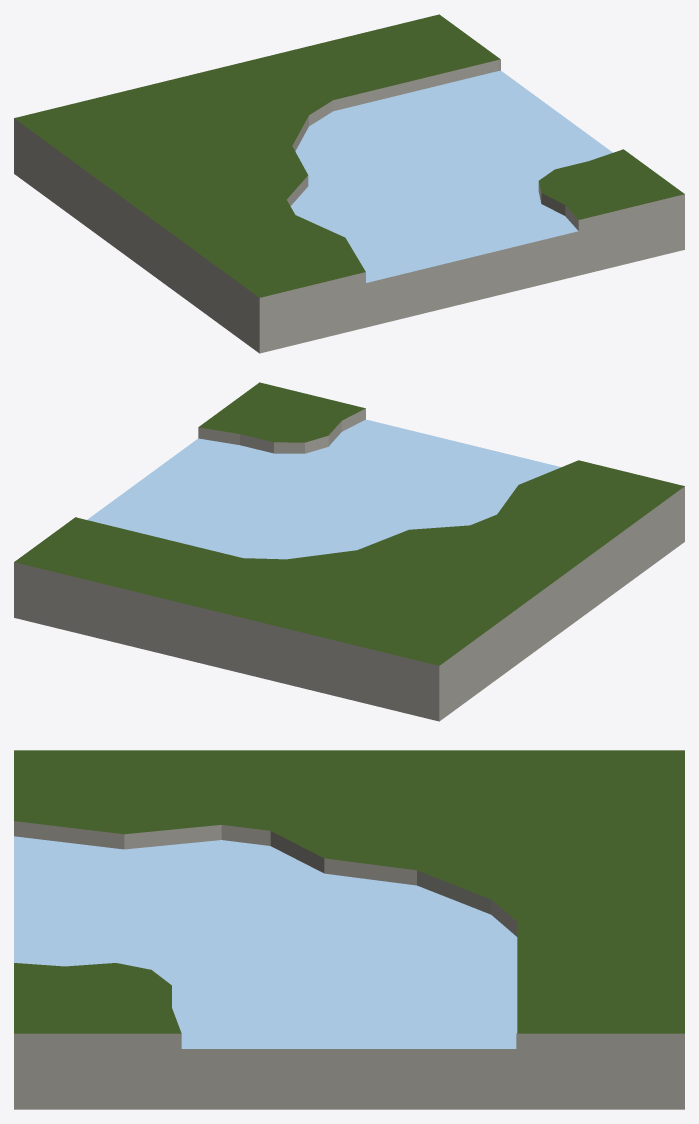
File: Terrain_Tile_Grass_Rock_River_Bend_02.fbx
3 views of the same model, one above another, from view 1: azimuth 30°, elevation 25°; view 2: azimuth 150°, elevation 25°; view 3: azimuth 270°, elevation 25° (orthographic). The views are drawn at different scales.
Visible parts, largest first — view 1: Terrain_Tile_Grass_Rock_River_Bend_02; view 2: Terrain_Tile_Grass_Rock_River_Bend_02; view 3: Terrain_Tile_Grass_Rock_River_Bend_02.
Part boxes in pixels (x1=…): Terrain_Tile_Grass_Rock_River_Bend_02: x1=14, y1=14, x2=684, y2=353; Terrain_Tile_Grass_Rock_River_Bend_02: x1=14, y1=382, x2=684, y2=721; Terrain_Tile_Grass_Rock_River_Bend_02: x1=14, y1=750, x2=684, y2=1109.
Size of the model in its own units: 126 by 15.75 by 126.
